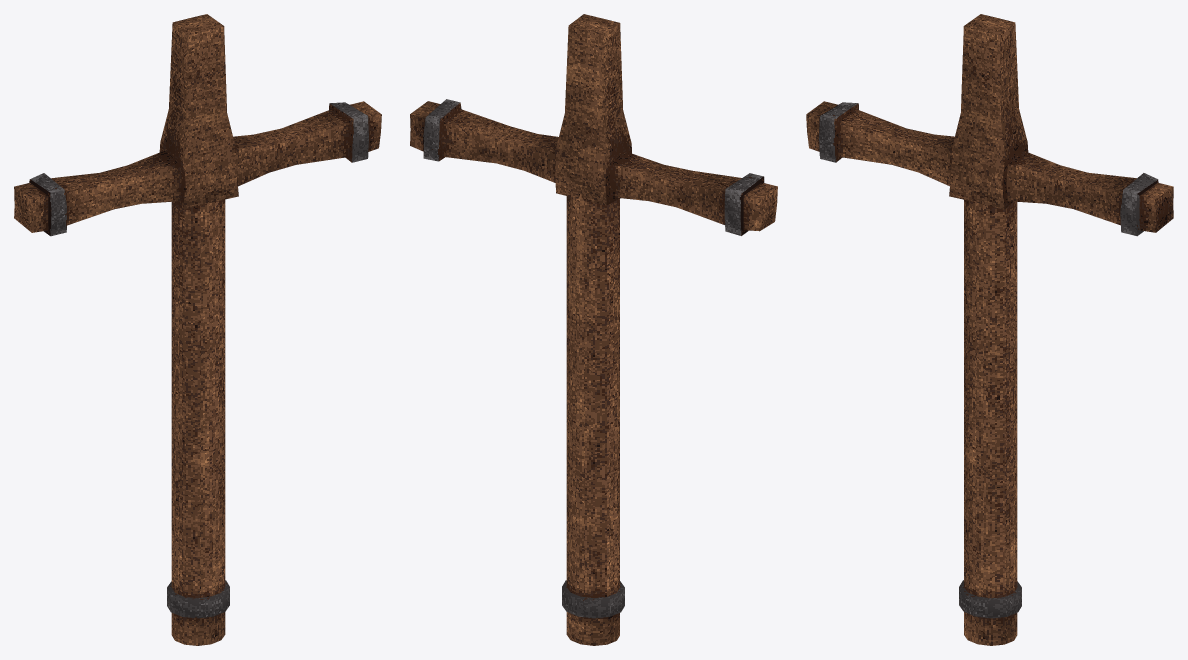
The model's file is Cross_Post.gltf.
3 views of the same model, side by side, from view 1: azimuth 30°, elevation 25°; view 2: azimuth 150°, elevation 25°; view 3: azimuth 330°, elevation 25° (orthographic).
Visible parts, largest first — view 1: Cross_Post; view 2: Cross_Post; view 3: Cross_Post.
Boxes of the visible parts, bbox=[...] form: Cross_Post: bbox=[14, 14, 381, 645]; Cross_Post: bbox=[410, 14, 777, 645]; Cross_Post: bbox=[806, 14, 1173, 645].
Bounding box in the file's own units: 5.68 × 9.41 × 0.843.
Materials: 1 (1 with a texture image).
